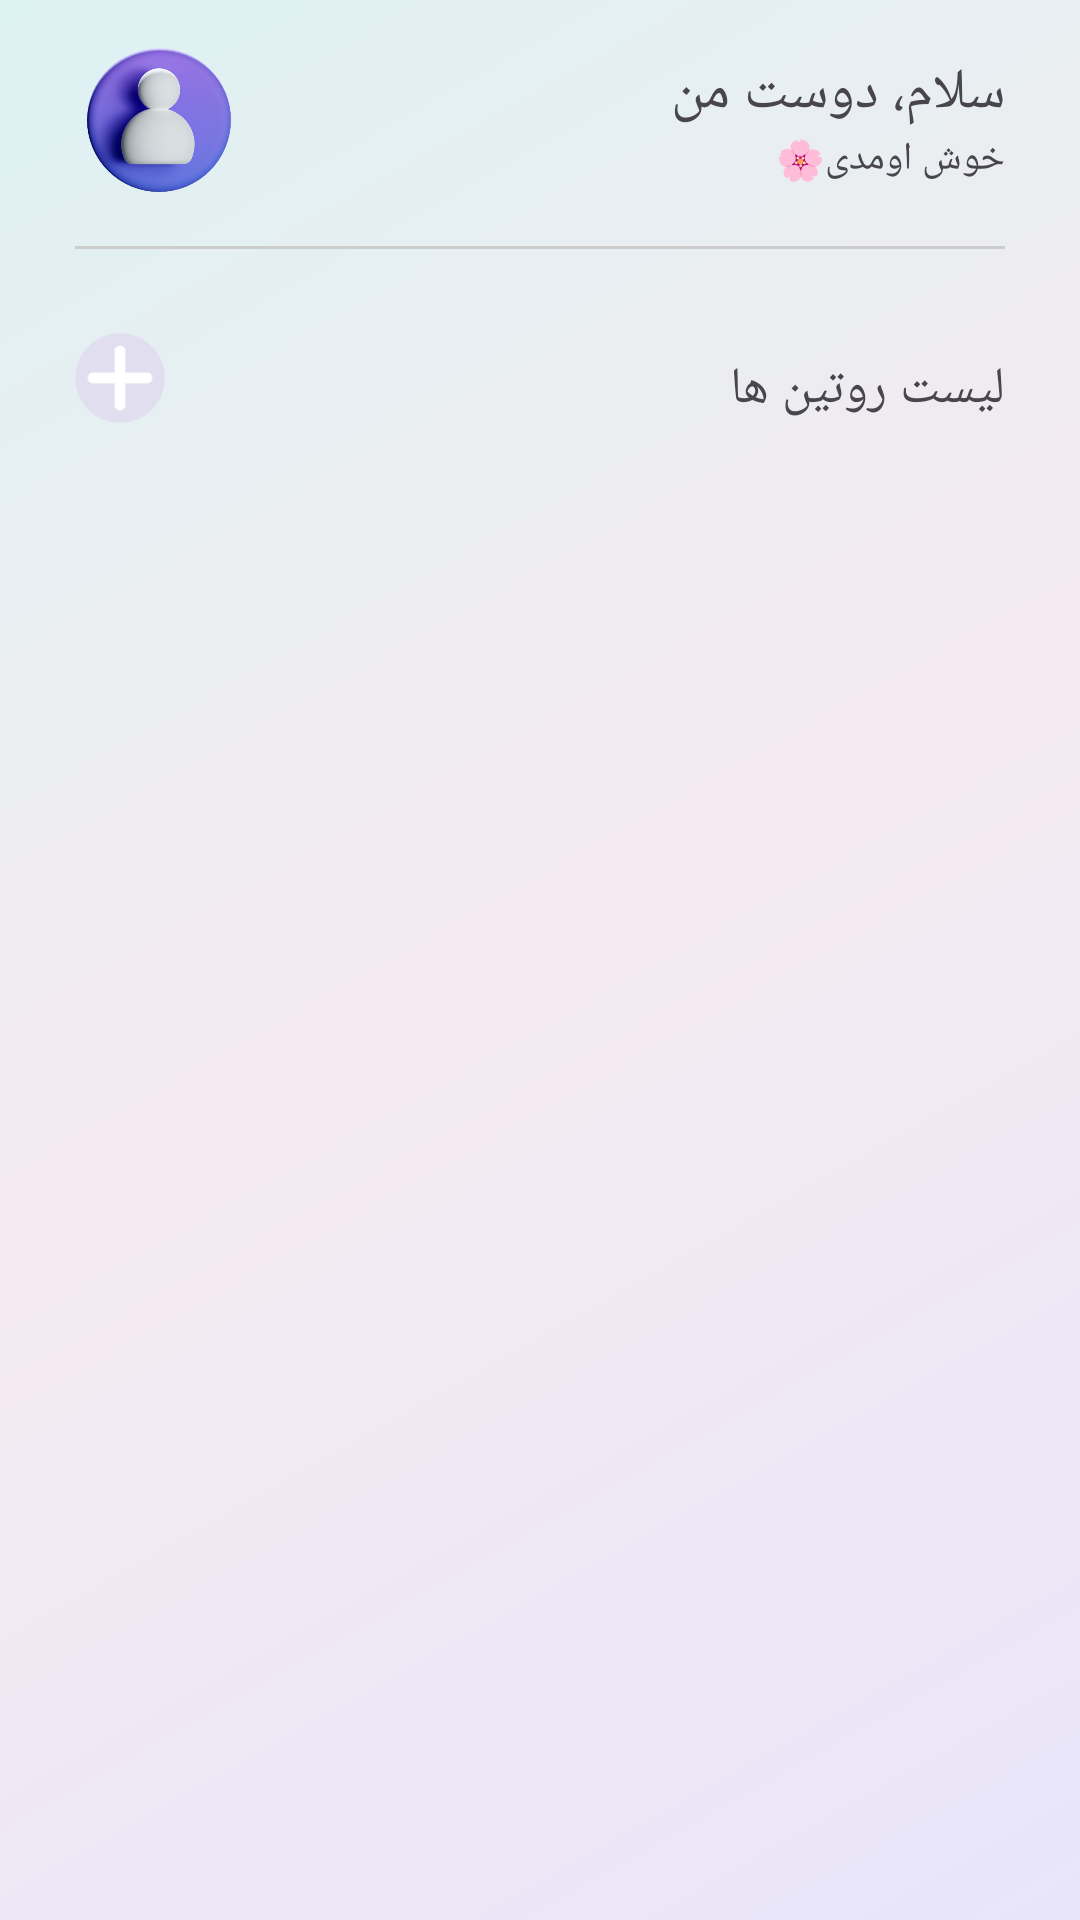

Icon bounding boxes for this 1080w x 1920h phone screenshot, format (x1, y1, x2, y2):
add: (75, 333, 165, 423)
profile: (87, 49, 231, 192)
